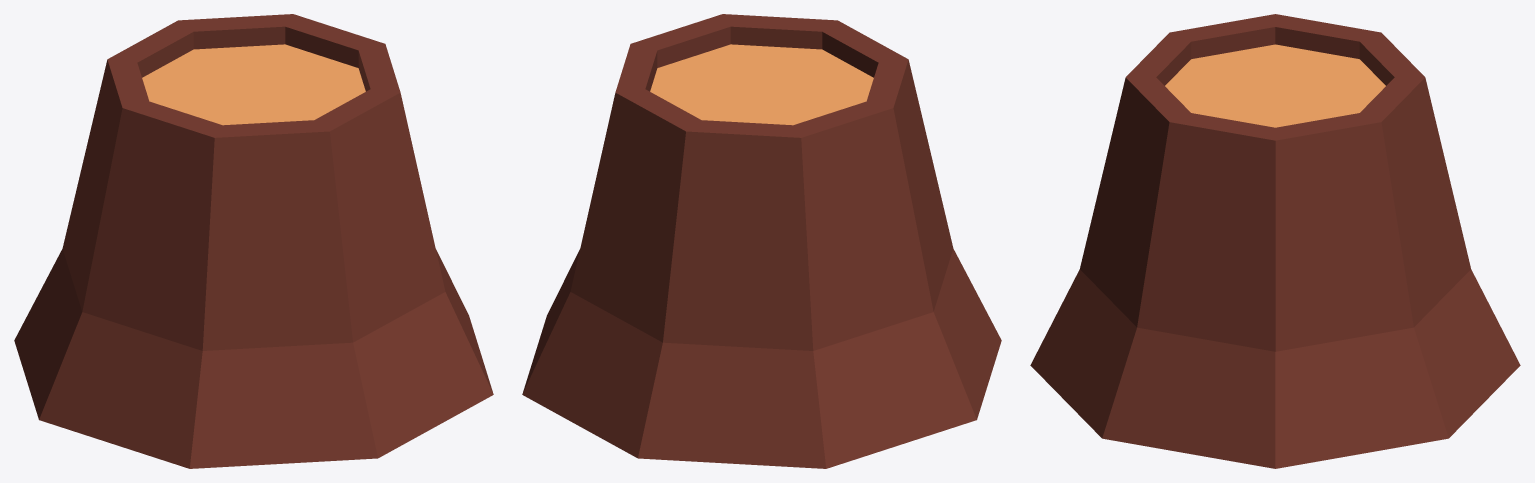
The model's file is TreeStump.fbx.
3 views of the same model, side by side, from view 1: azimuth 30°, elevation 25°; view 2: azimuth 150°, elevation 25°; view 3: azimuth 270°, elevation 25° (orthographic).
Parts seen in each view (by area): view 1: Circle.005; view 2: Circle.005; view 3: Circle.005.
Part boxes in pixels (left/top/right/bottom): Circle.005: left=14, top=14, right=493, bottom=468; Circle.005: left=522, top=14, right=1001, bottom=468; Circle.005: left=1030, top=14, right=1520, bottom=468.
Size of the model in its own units: 58.88 by 38.18 by 58.88.
